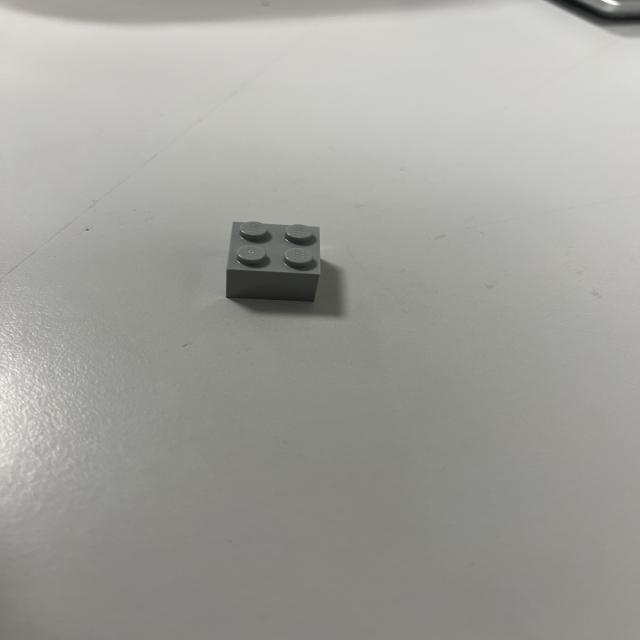C2x2x1: (220, 216, 331, 304)
